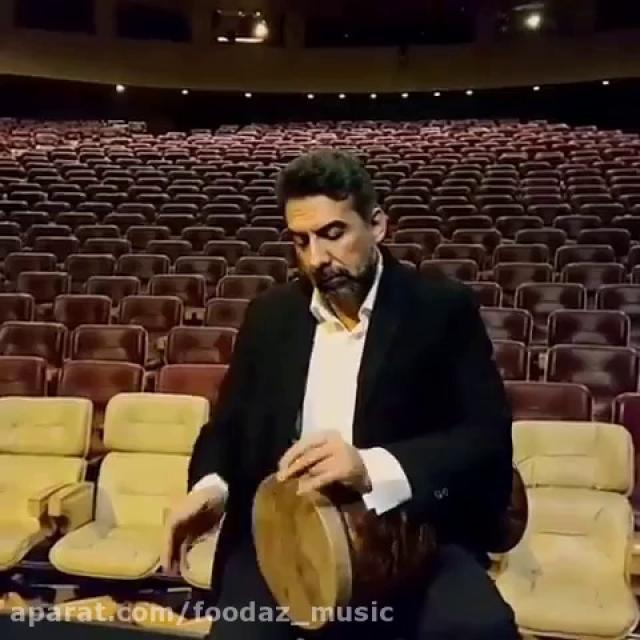Tombak: (248, 462, 532, 623)
